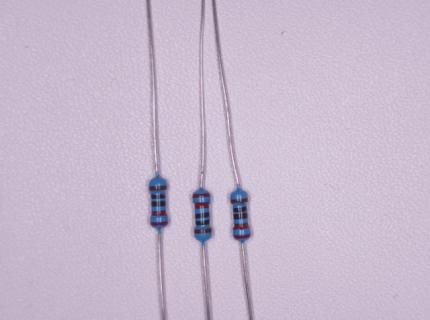Black band: (234, 213, 248, 220), (195, 212, 210, 218), (195, 219, 209, 225), (152, 201, 165, 207), (151, 194, 166, 199), (233, 207, 247, 212)
Brown band: (231, 197, 248, 204), (194, 228, 211, 234), (149, 186, 166, 190)
Red band: (233, 223, 250, 229), (234, 233, 251, 239), (194, 202, 209, 208), (192, 193, 210, 198), (151, 221, 168, 226), (152, 211, 166, 216)
